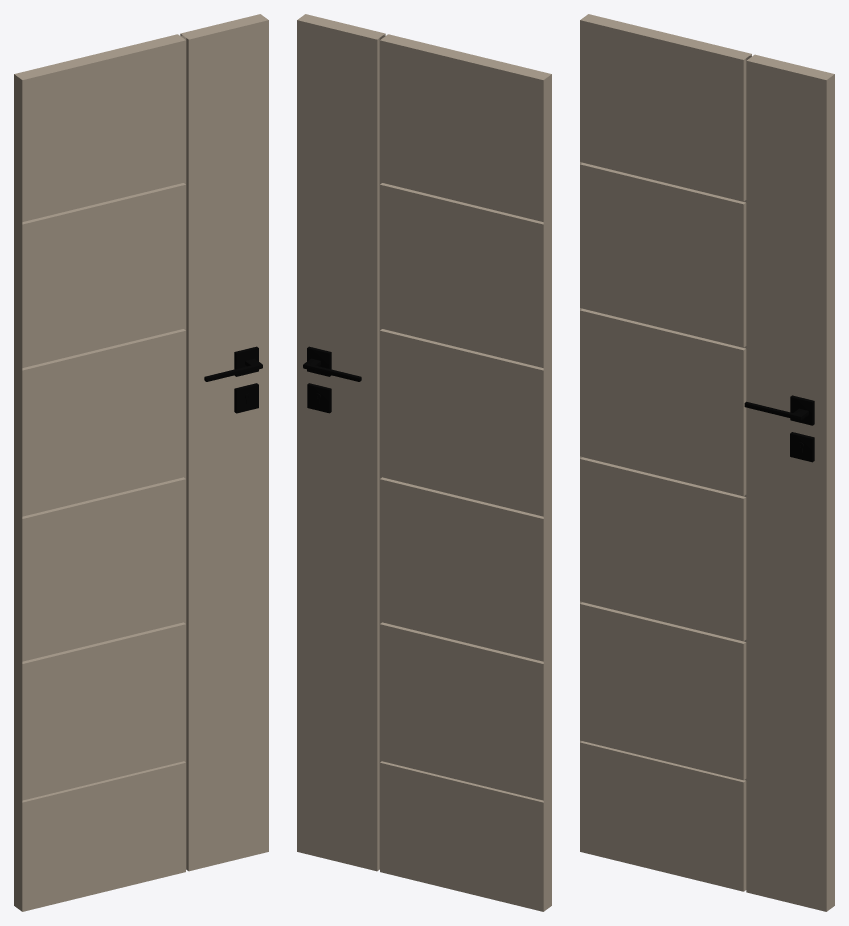
File: SC_3_3b_door.glb
3 views of the same model, side by side, from view 1: azimuth 30°, elevation 25°; view 2: azimuth 150°, elevation 25°; view 3: azimuth 330°, elevation 25° (orthographic).
Visible parts, largest first — view 1: SC_3__3b_door_; view 2: SC_3__3b_door_; view 3: SC_3__3b_door_.
Part boxes in pixels (<box>): SC_3__3b_door_: <box>14,14,268,911</box>; SC_3__3b_door_: <box>297,14,551,911</box>; SC_3__3b_door_: <box>580,14,834,911</box>.
Bounding box in the file's own units: 0.5514 × 1.78 × 0.1089.
1 material, 1 textured.
